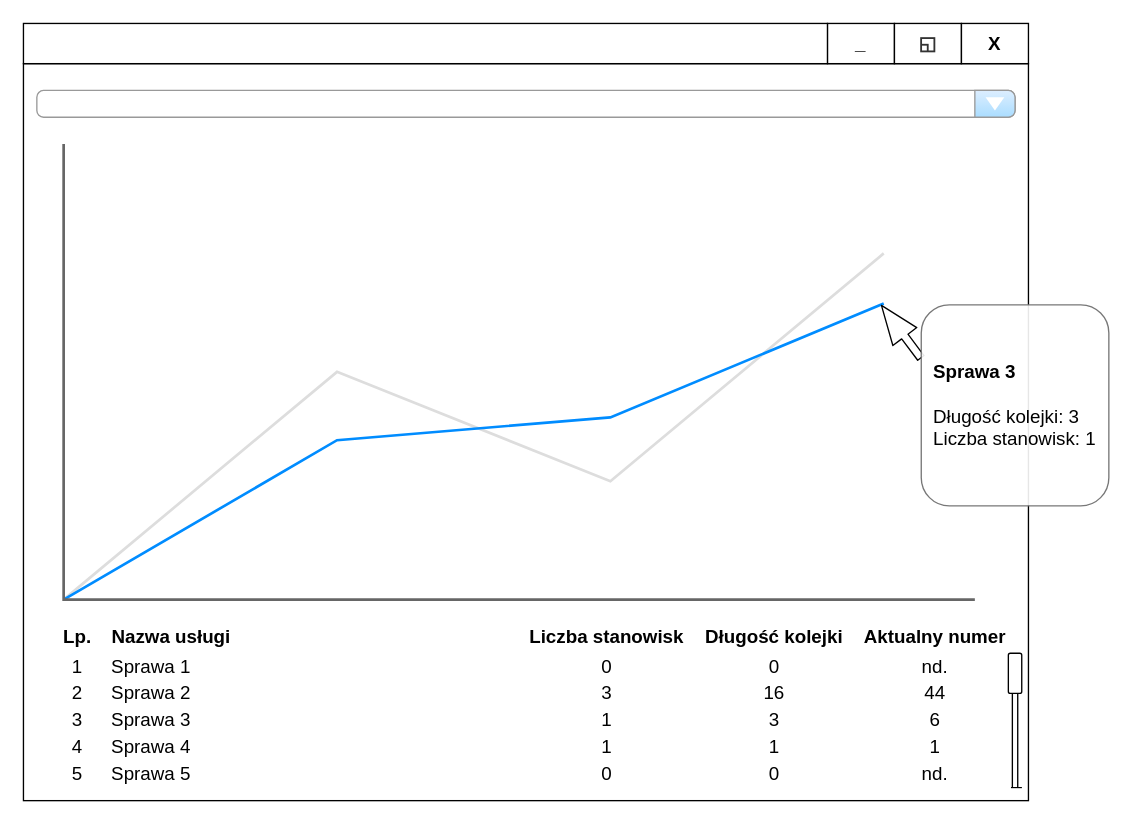
Image size: 1132x824. Some labels were removed from this diagram. The centre of each missing label's shape, as x and y in pixels:
Systemy kolejkowe: the point at 424,43
Wybierz urząd: the point at 525,103
